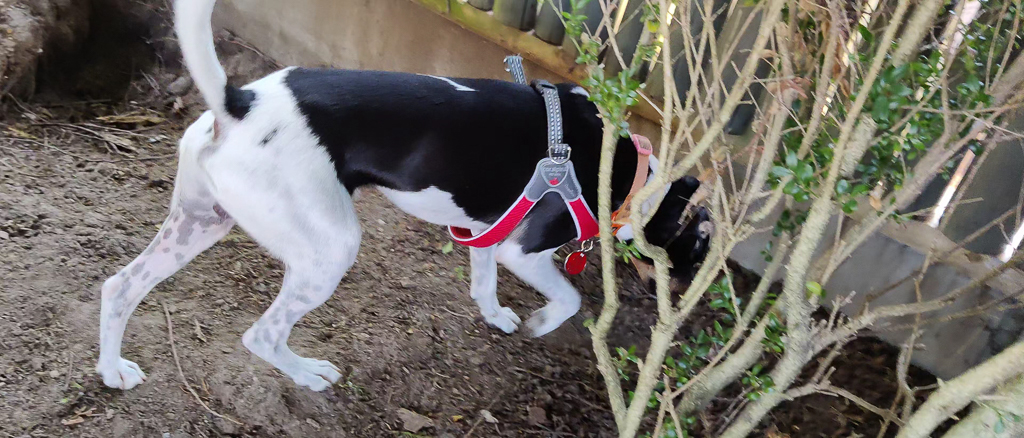Dog: (85, 0, 738, 404)
